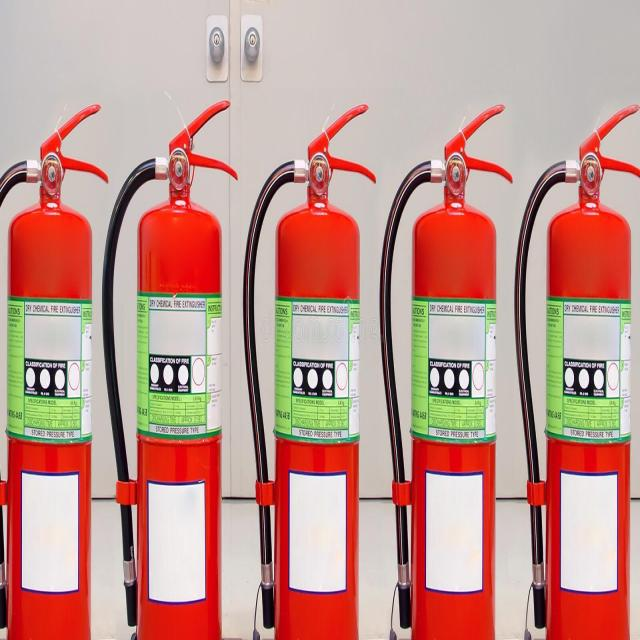fire_extinguisher: (372, 96, 518, 639), (99, 89, 242, 639), (237, 96, 379, 639), (508, 96, 640, 639), (0, 87, 115, 639)
